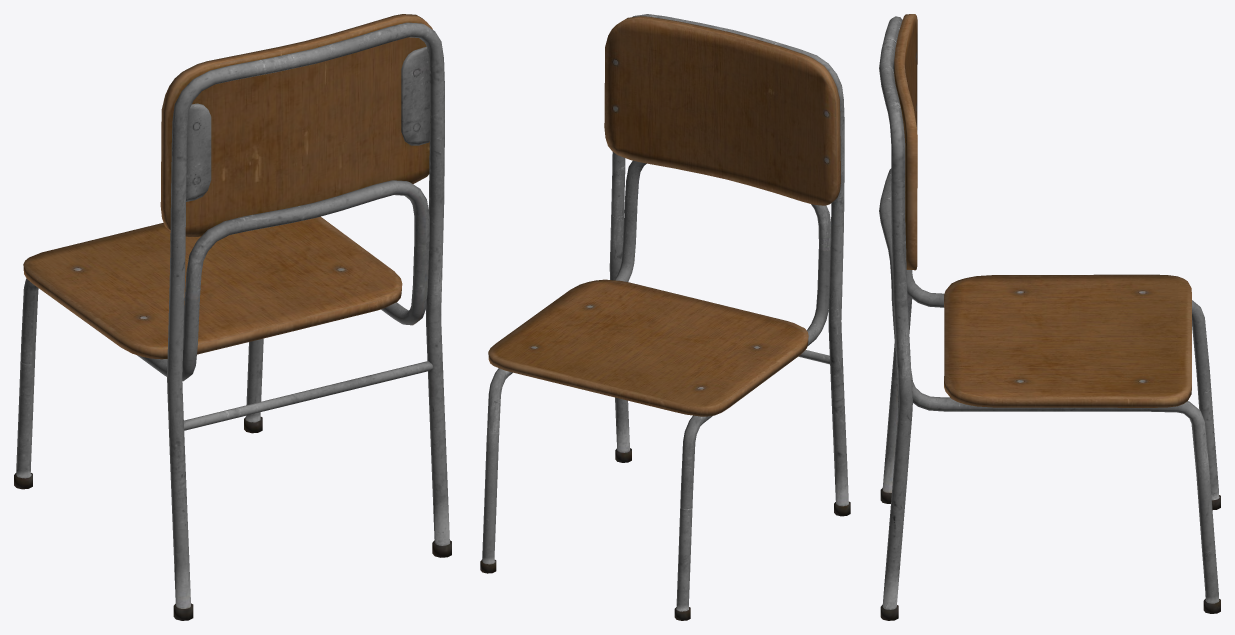
File: chair 2.glb
3 views of the same model, side by side, from view 1: azimuth 30°, elevation 25°; view 2: azimuth 150°, elevation 25°; view 3: azimuth 270°, elevation 25° (orthographic). The views are drawn at different scales.
Visible parts, largest first — view 1: defaultMaterial.002; view 2: defaultMaterial.002; view 3: defaultMaterial.002.
Part boxes in pixels (<box>): defaultMaterial.002: <box>14,14,451,620</box>; defaultMaterial.002: <box>480,14,850,620</box>; defaultMaterial.002: <box>879,14,1220,620</box>.
Bounding box in the file's own units: 64.2 × 120 × 74.48.
Materials: 1 (1 with a texture image).
